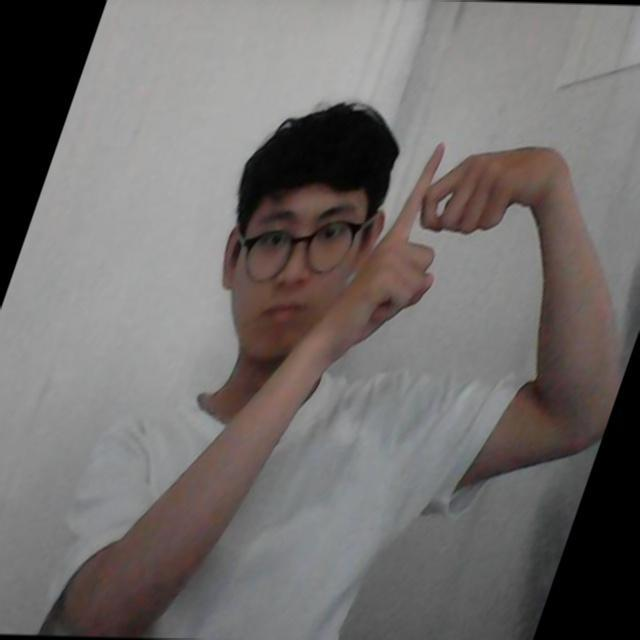K: (366, 118, 530, 340)
